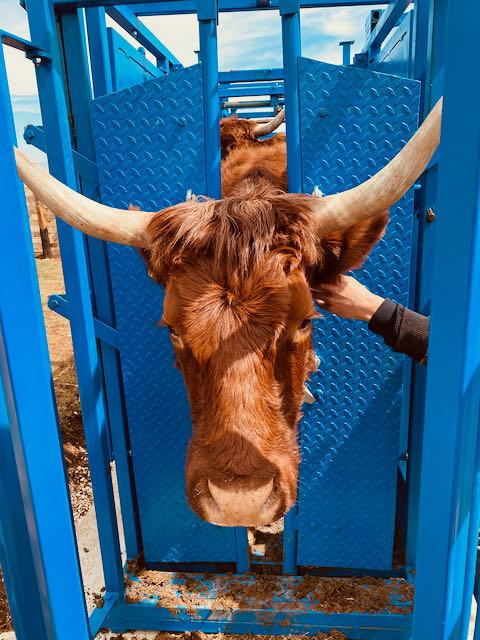muzzles: (185, 463, 296, 531)
